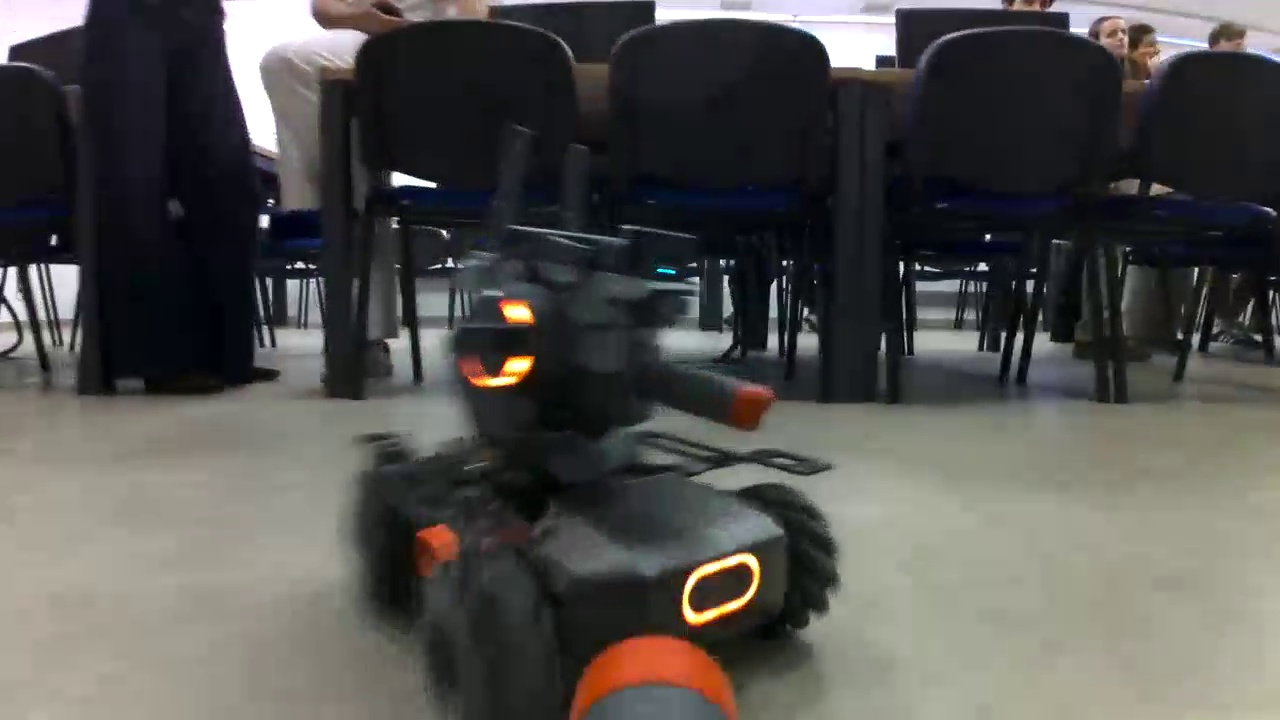robot: (347, 222, 844, 714)
